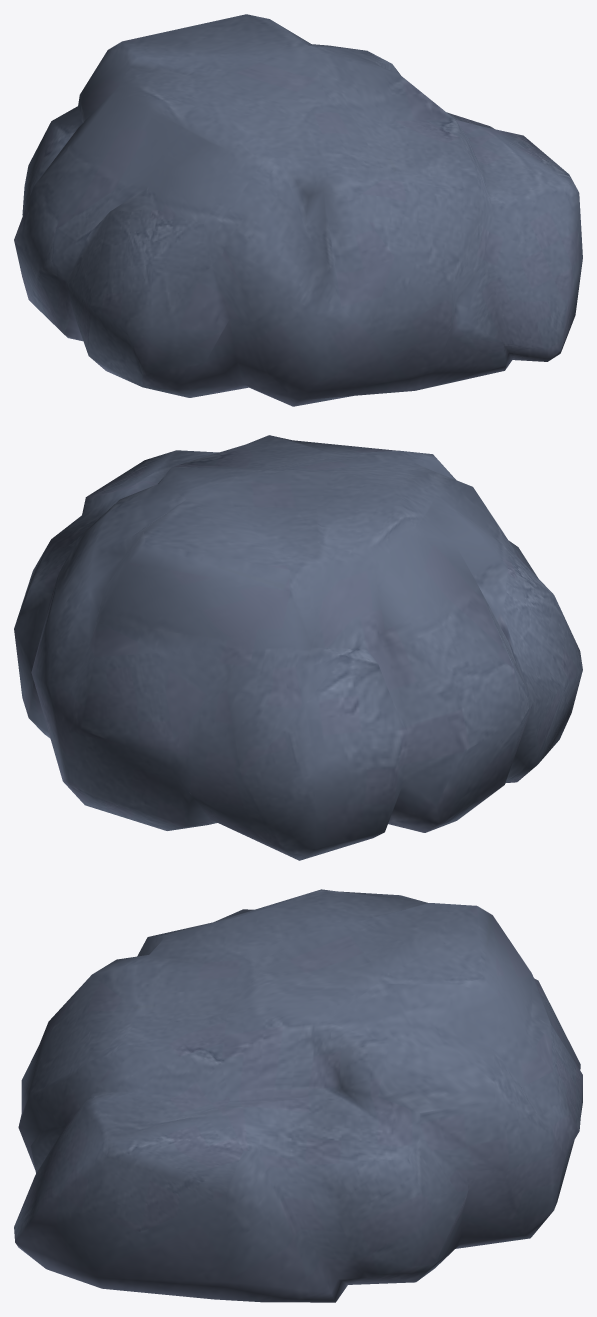
File: rock_a.glb
3 renders of one model, top to bottom at view 1: azimuth 30°, elevation 25°; view 2: azimuth 150°, elevation 25°; view 3: azimuth 270°, elevation 25°, orthographic. The views are drawn at different scales.
Visible parts, largest first — view 1: tripo_node_e4fea124-cbc9-4809-b56b-4074db42c73f; view 2: tripo_node_e4fea124-cbc9-4809-b56b-4074db42c73f; view 3: tripo_node_e4fea124-cbc9-4809-b56b-4074db42c73f.
Boxes of the visible parts, x1,y1,x2,y2 form: tripo_node_e4fea124-cbc9-4809-b56b-4074db42c73f: [14, 14, 582, 406]; tripo_node_e4fea124-cbc9-4809-b56b-4074db42c73f: [14, 435, 582, 860]; tripo_node_e4fea124-cbc9-4809-b56b-4074db42c73f: [14, 889, 582, 1302].
Bounding box in the file's own units: 0.9629 × 0.502 × 0.998.
Materials: 1 (1 with a texture image).
